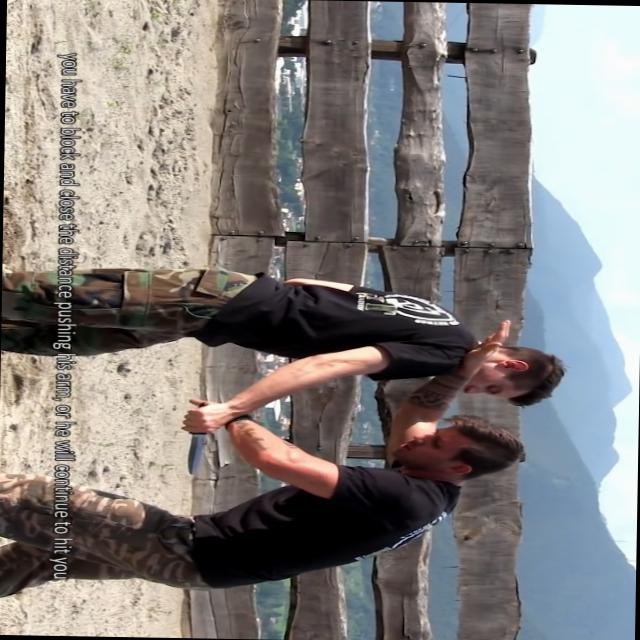knife: (180, 394, 222, 478)
